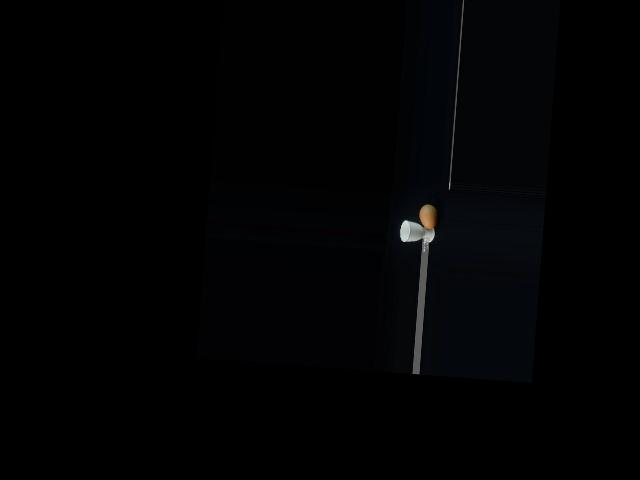egg: (418, 204, 437, 229)
